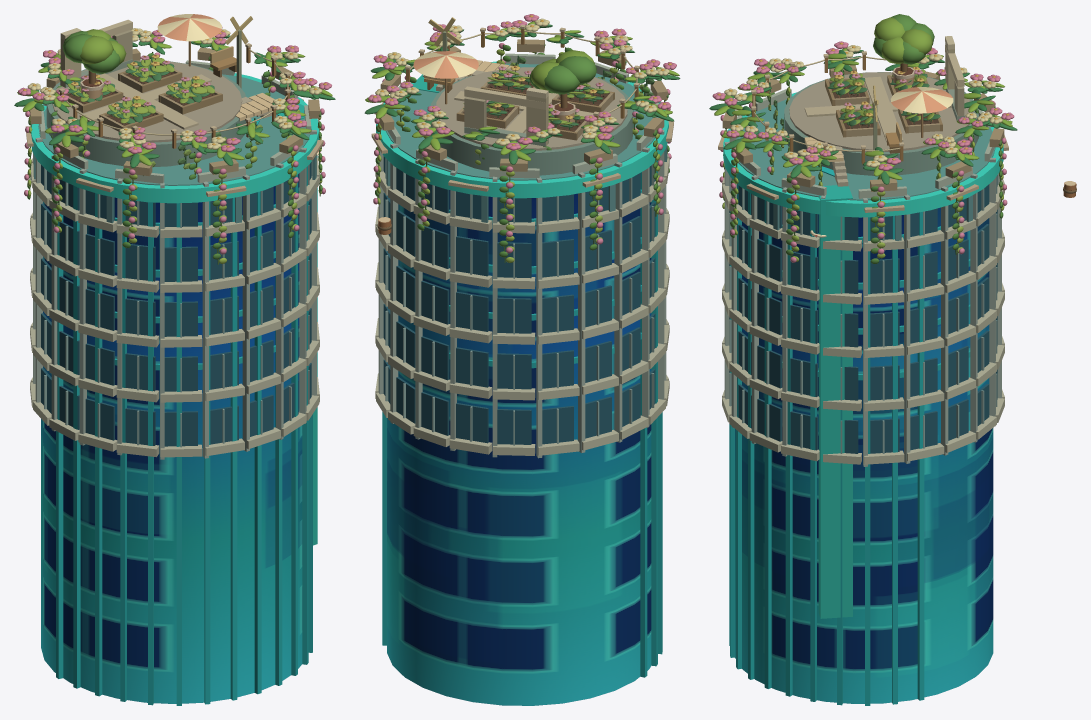
Rendered from zone3_arc_farm.glb.
The picture shows the model from 3 angles, left to right: view 1: azimuth 30°, elevation 25°; view 2: azimuth 150°, elevation 25°; view 3: azimuth 270°, elevation 25°; orthographic projection. The views are drawn at different scales.
Visible parts, largest first — view 1: zone3_arc_farm; view 2: zone3_arc_farm; view 3: zone3_arc_farm.
Boxes of the visible parts, <box> form: zone3_arc_farm: <box>14,14,335,705</box>; zone3_arc_farm: <box>364,14,680,705</box>; zone3_arc_farm: <box>709,14,1076,705</box>.
Size of the model in its own units: 14.74 by 31.41 by 17.52.
Materials: 4 (1 with a texture image).
